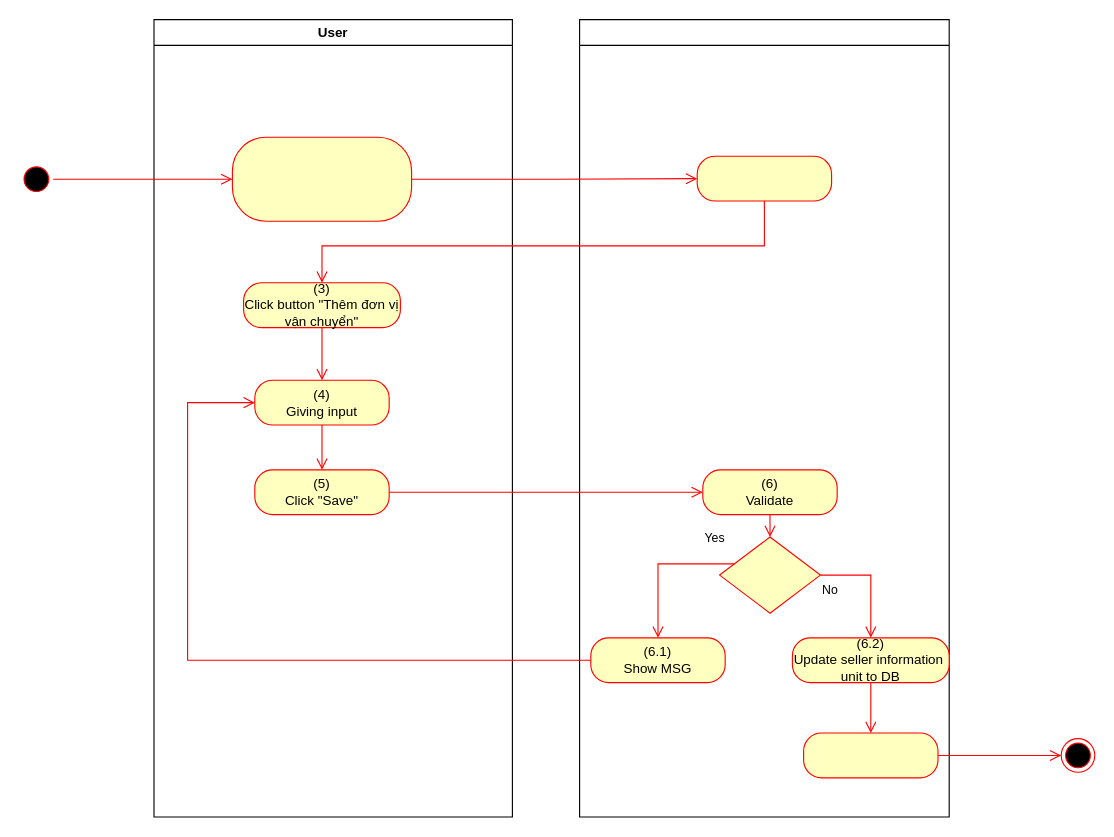
This 1114x837 diagram has some shape labels left out. Here are the shapes that lost their labels. From the top down, the box of each, then its label:
(231, 136, 412, 221): (1) On "left menu" click " Seller information "
(696, 155, 832, 201): (2) Load " Update Screen "
(578, 18, 949, 817): System
(802, 732, 938, 778): (7) Update UI
